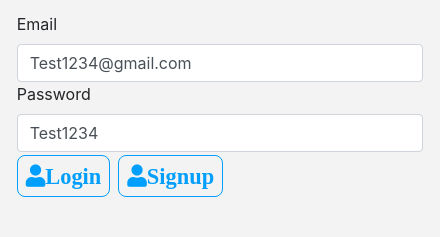
Scenario: Login Component › displays an error message for password too long
# Fill in the password field with a too long password
Replace the text in the field labelled "Password" with "verylongpasswordthatexceedscharacterlimit" at (220, 133), box [17,114,423,152]
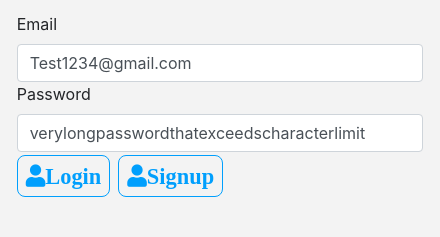
# Submit the form
Click the button "Login".
click(64, 176)  # box [17,155,110,197]
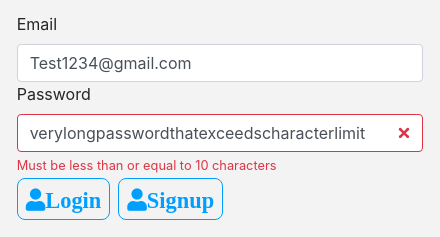
Expected: the text "Must be less than or equal to 10 characters" is shown, [17,158,277,173]
